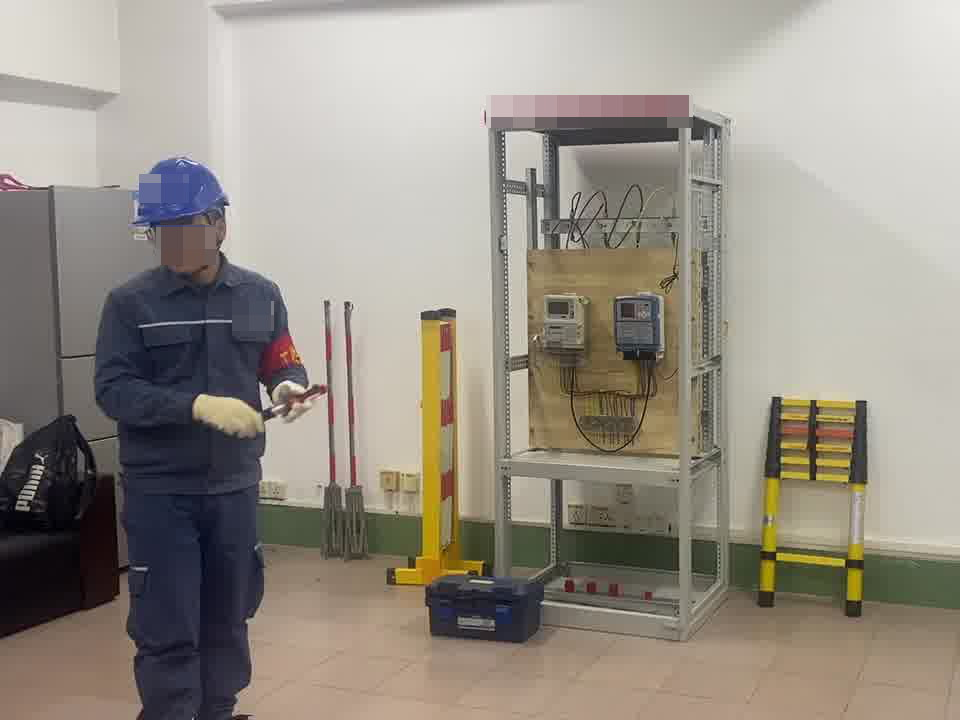badge: (261, 331, 303, 383)
downsuit: (120, 502, 268, 720)
halt: (133, 155, 235, 276)
inear: (200, 213, 231, 255)
person: (90, 150, 315, 720)
testrod: (254, 382, 328, 424)
upsuit: (92, 259, 309, 489)
wglove: (190, 395, 265, 440), (275, 383, 311, 422)
